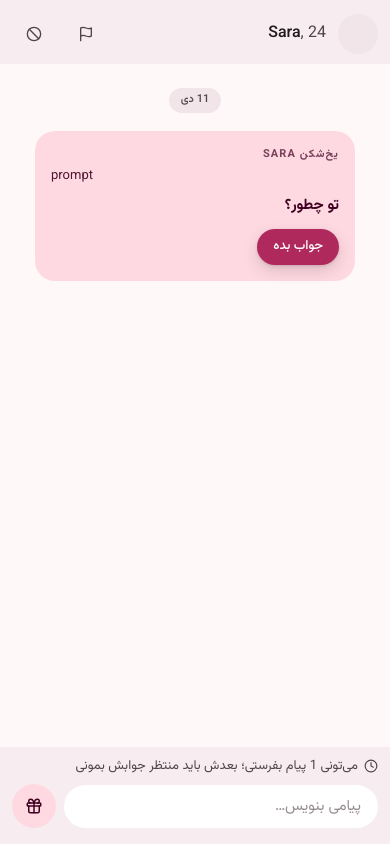
Chat — reply limit › a failed send unlocks again, and its retry is allowed
In the text box with placeholder "پیامی بنویس…": (221, 806) [64,785,378,828], type "hi"
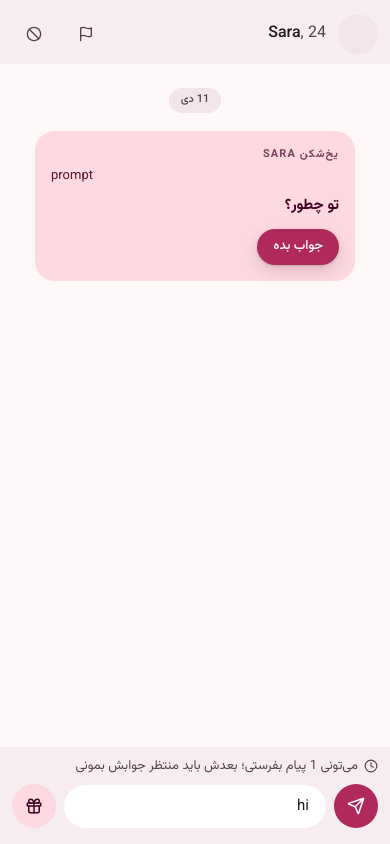
Click the button named "ارسال": (356, 806) [334,784,378,828]
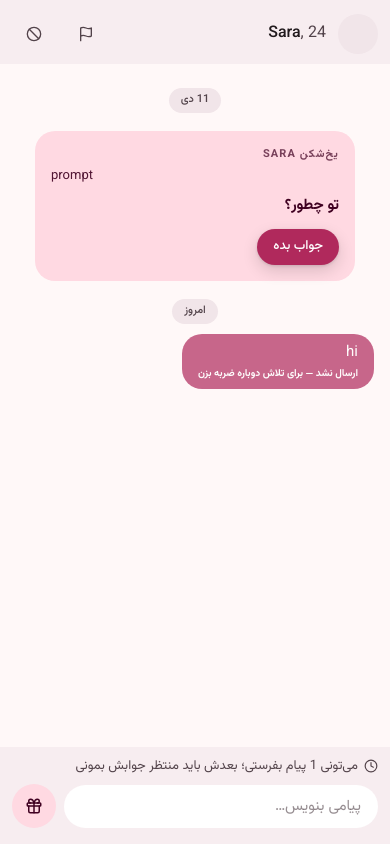
Expected: the text box with placeholder "پیامی بنویس…" is enabled, [64,785,378,828]
Expected: the text "می‌تونی 1 پیام بفرستی؛ بعدش باید منتظر جوابش بمونی" is shown, [76,756,378,776]
Click the text "ارسال نشد — برای تلاش دوباره ضربه بزن": (278, 374) [198,366,358,381]
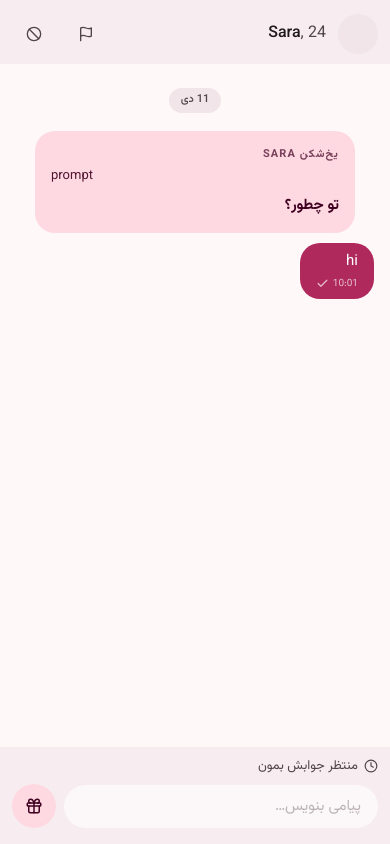
Expected: the text "منتظر جوابش بمون" is shown, [258,756,378,776]
Expected: the text box with placeholder "پیامی بنویس…" is disabled, [64,785,378,828]
